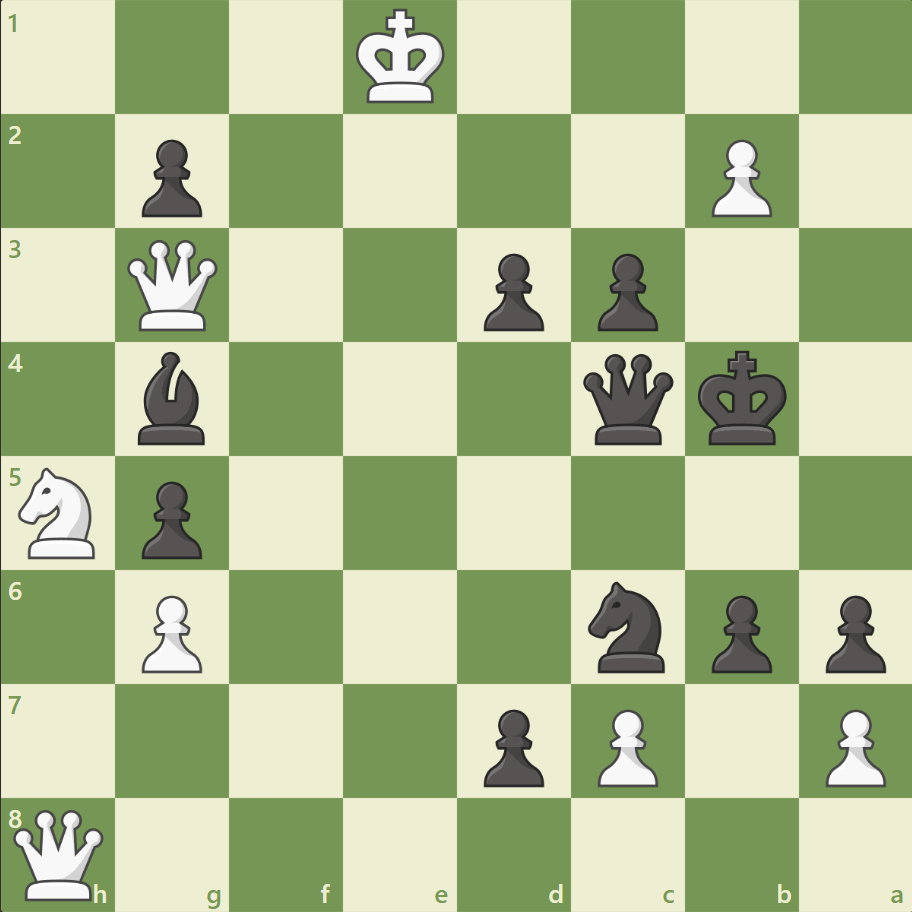K: (351, 4, 451, 112)
N: (11, 461, 108, 564)
P: (133, 586, 208, 677), (701, 132, 776, 223), (815, 700, 889, 791), (588, 700, 662, 791)
Q: (10, 804, 109, 903), (124, 236, 223, 335)
b: (131, 347, 215, 449)
k: (692, 344, 792, 452)
n: (579, 575, 676, 677)
p: (474, 700, 549, 791), (701, 586, 776, 677), (133, 473, 208, 564), (474, 246, 549, 337), (133, 132, 208, 223), (815, 586, 889, 677), (588, 246, 662, 337)
q: (578, 349, 677, 449)
